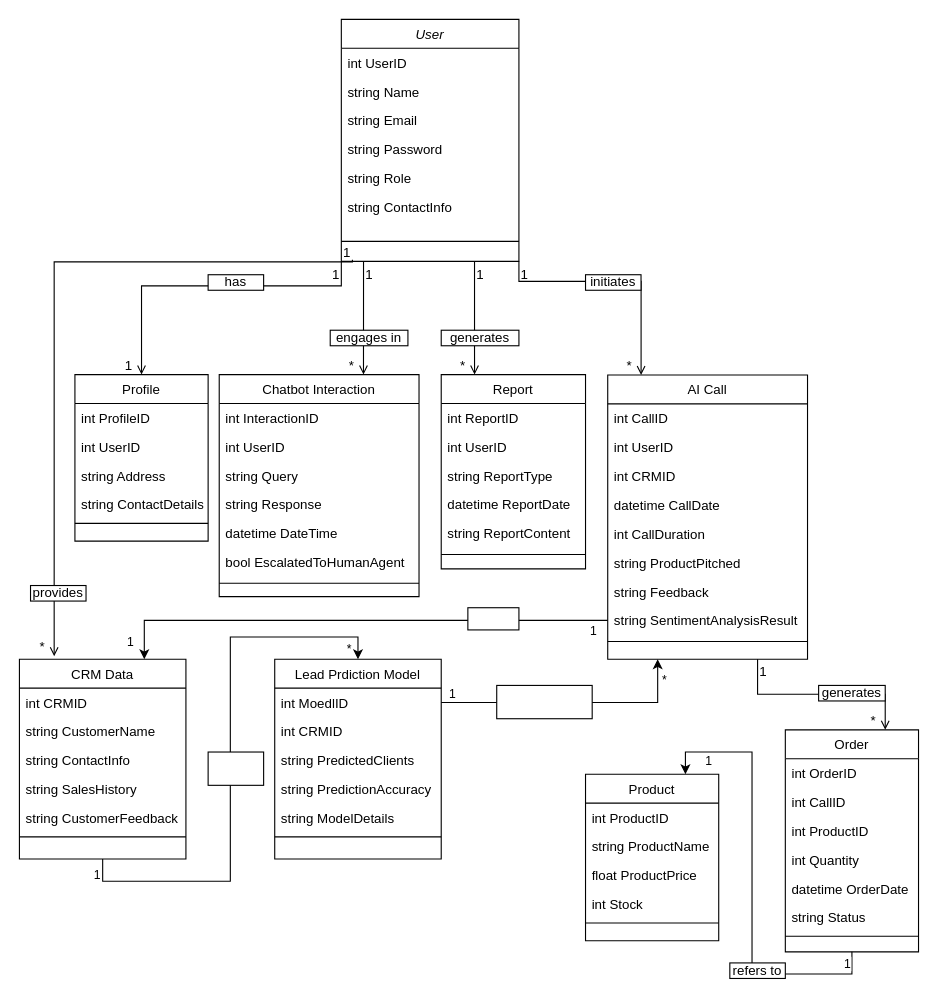
Some shapes in this 938 by 1002 pixel diagram are drawn without their labels. Each missing label, with the centre of its shape:
feeds into: the point at 235,768
provides potential clients: the point at 544,701
uses: the point at 493,618
